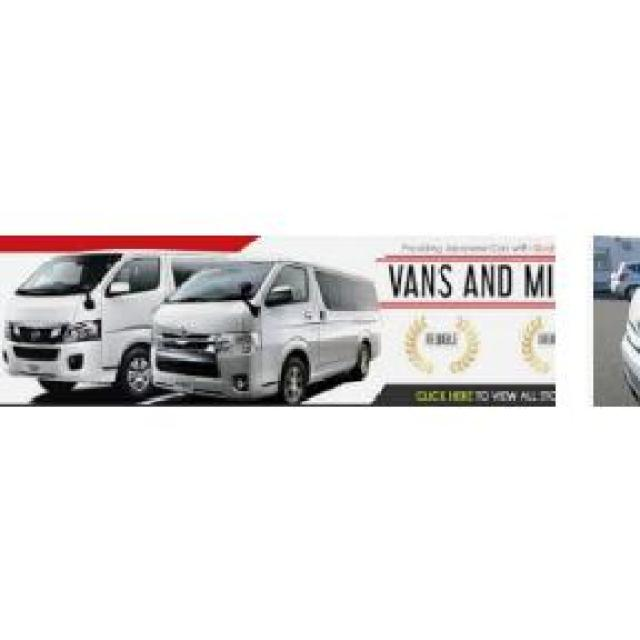Van: (146, 253, 376, 403)
